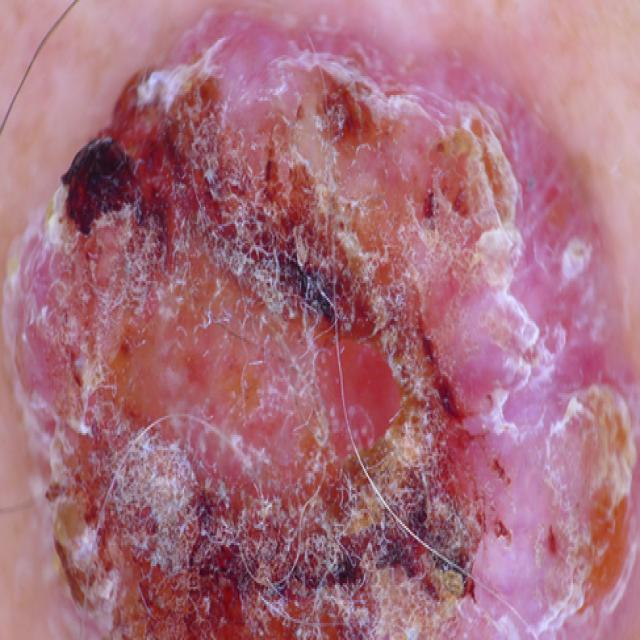Carcinoma: (0, 23, 640, 640)
